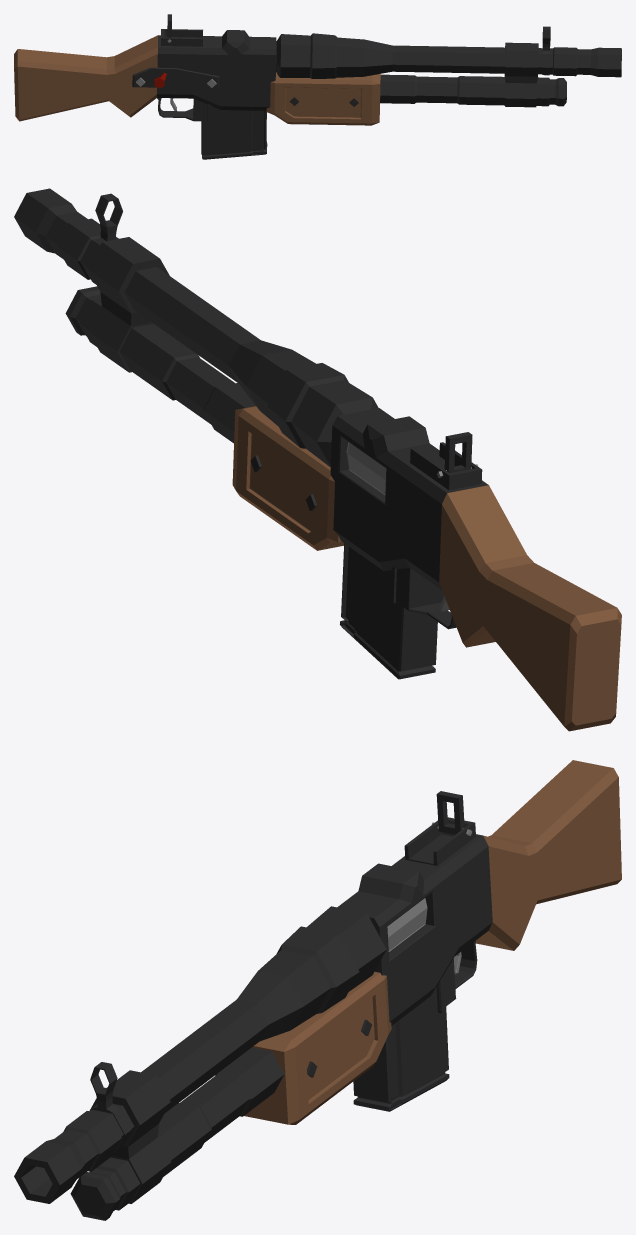
Rendered from Gun3.fbx.
3 views of the same model, one above another, from view 1: azimuth 30°, elevation 25°; view 2: azimuth 150°, elevation 25°; view 3: azimuth 270°, elevation 25° (orthographic). The views are drawn at different scales.
Parts seen in each view (by area): view 1: HeavyRifle.001; view 2: HeavyRifle.001; view 3: HeavyRifle.001.
Boxes of the visible parts, <box> form: HeavyRifle.001: <box>14,14,621,159</box>; HeavyRifle.001: <box>14,188,621,731</box>; HeavyRifle.001: <box>14,760,621,1220</box>.
Bounding box in the file's own units: 706 × 204 × 435.
